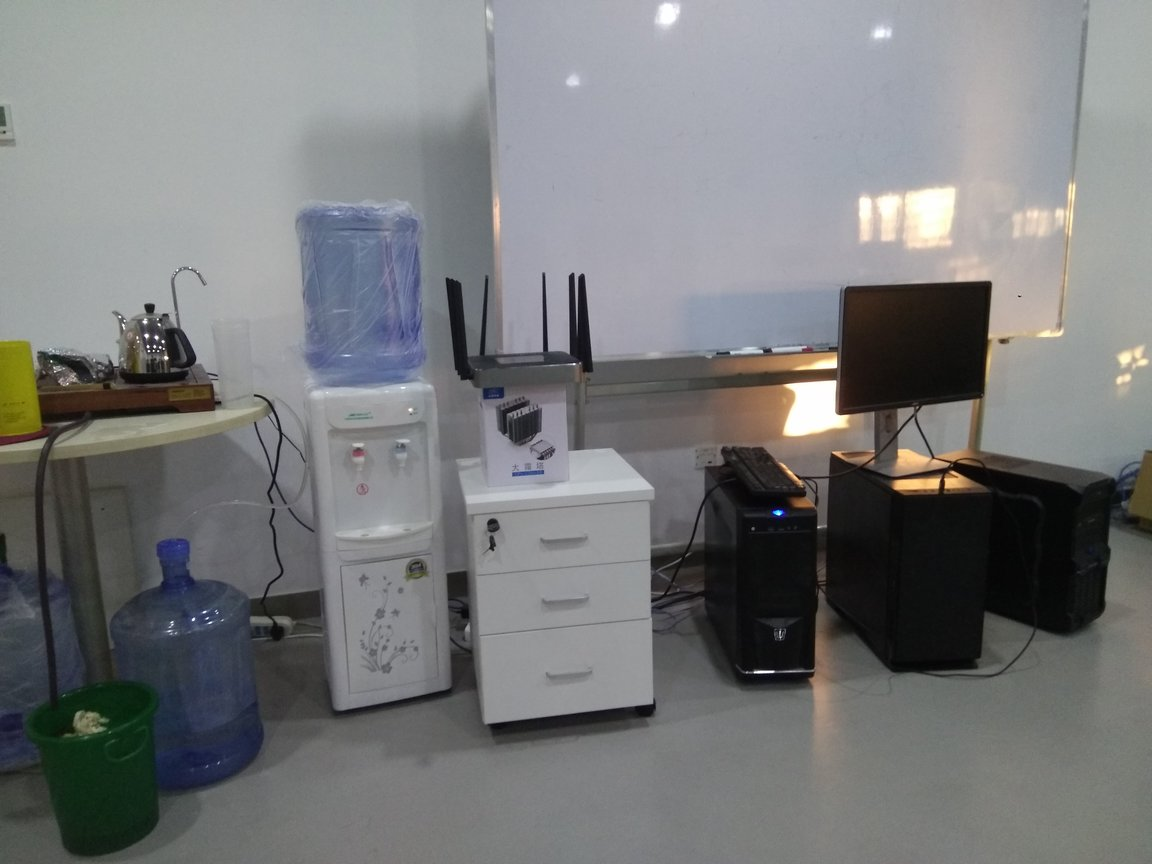computer: (831, 440, 990, 677), (942, 441, 1114, 639), (695, 453, 824, 701)
drawer chest: (454, 447, 670, 739)
monitor: (827, 268, 999, 480)
scuttlebutt: (106, 538, 263, 799), (300, 198, 443, 398), (1, 535, 97, 777)
water dispenser: (295, 372, 452, 714)
